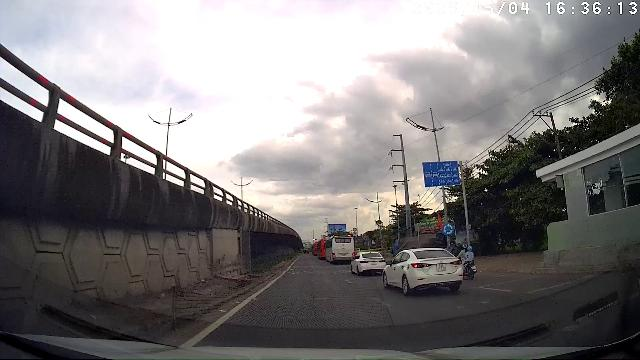303-noi-giao-nhau-chay-theo-vong-xuyen: (442, 222, 454, 235)
